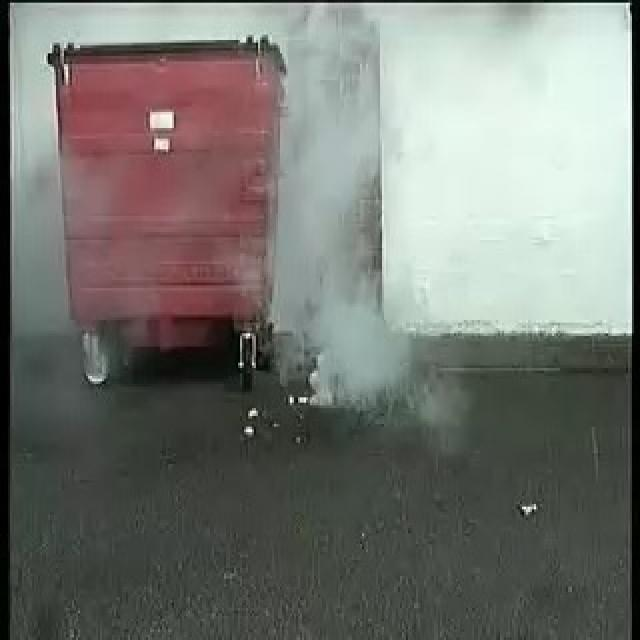smoke: (268, 105, 402, 404)
